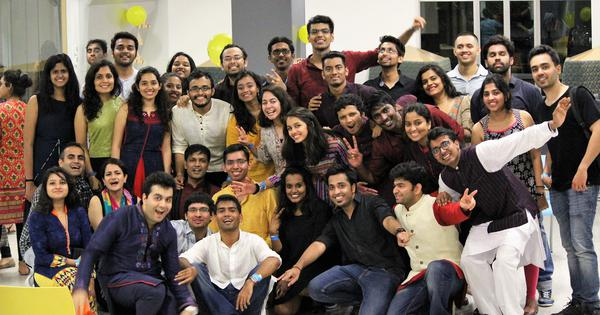men: (139, 172, 177, 225), (528, 46, 564, 91), (391, 162, 424, 210), (322, 169, 359, 209), (431, 127, 463, 168), (484, 33, 515, 75), (219, 143, 253, 181), (367, 94, 401, 131), (181, 193, 213, 231), (261, 34, 299, 66), (185, 72, 219, 107), (319, 52, 351, 89), (110, 29, 141, 67), (57, 142, 89, 177), (335, 96, 365, 133), (374, 35, 405, 70), (305, 14, 334, 51), (215, 193, 242, 231), (451, 32, 480, 64), (183, 144, 207, 181), (218, 43, 244, 75)
women: (38, 166, 76, 207), (279, 167, 314, 210), (284, 108, 319, 148), (85, 60, 119, 97), (44, 52, 76, 91), (415, 63, 451, 97), (99, 157, 129, 196), (405, 104, 431, 145), (233, 72, 265, 105), (131, 70, 171, 95), (257, 88, 288, 117), (483, 81, 510, 111), (168, 50, 191, 77), (163, 80, 185, 103)
